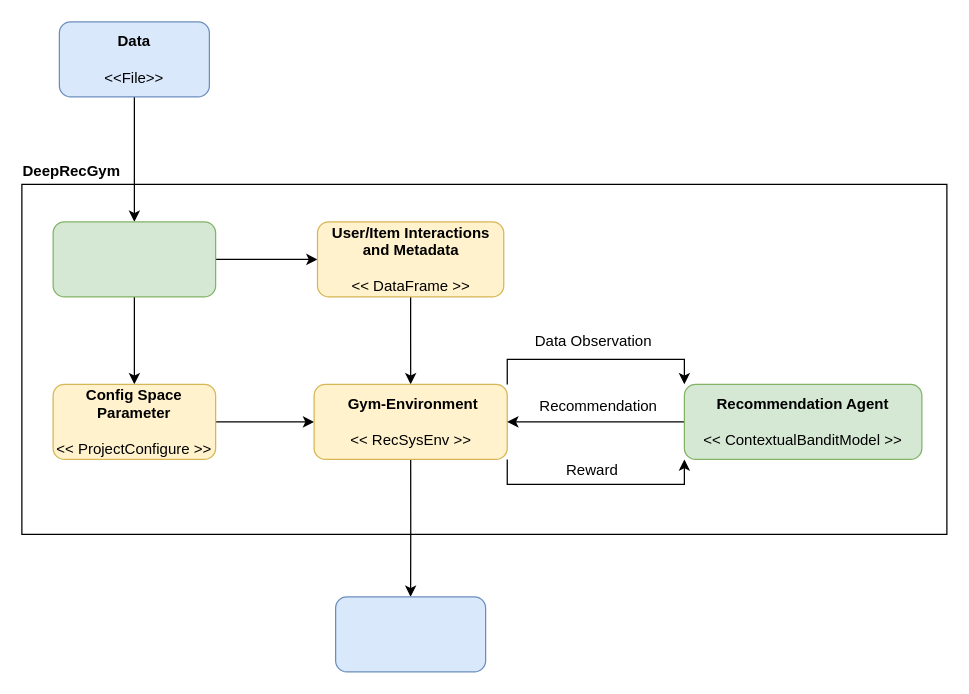
Some shapes in this 969 by 694 pixel diagram are drawn without their labels. The centre of each missing label's shape, as x and y in pixels:
"Data Logs << File >>" goes at (410,634).
"Preprocessing << PrepareDataset >>" goes at (134,259).
